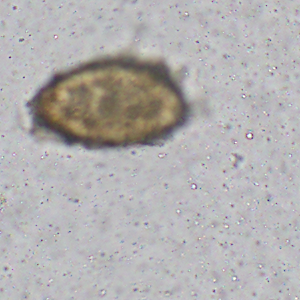Fasciola_hepatica_egg: (31, 56, 190, 147)
